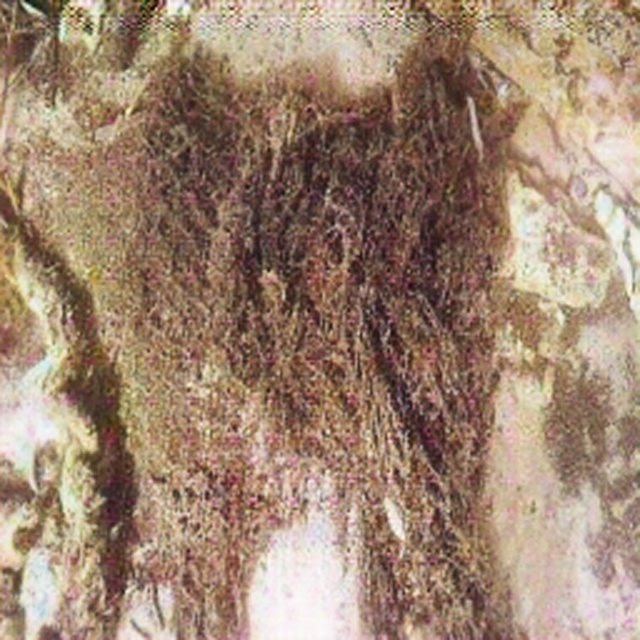mine: (140, 55, 512, 640)
